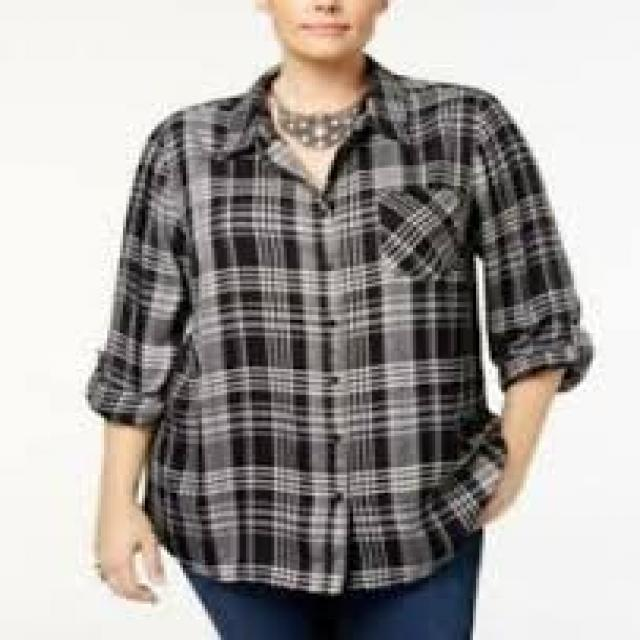plaid: (93, 83, 595, 576)
